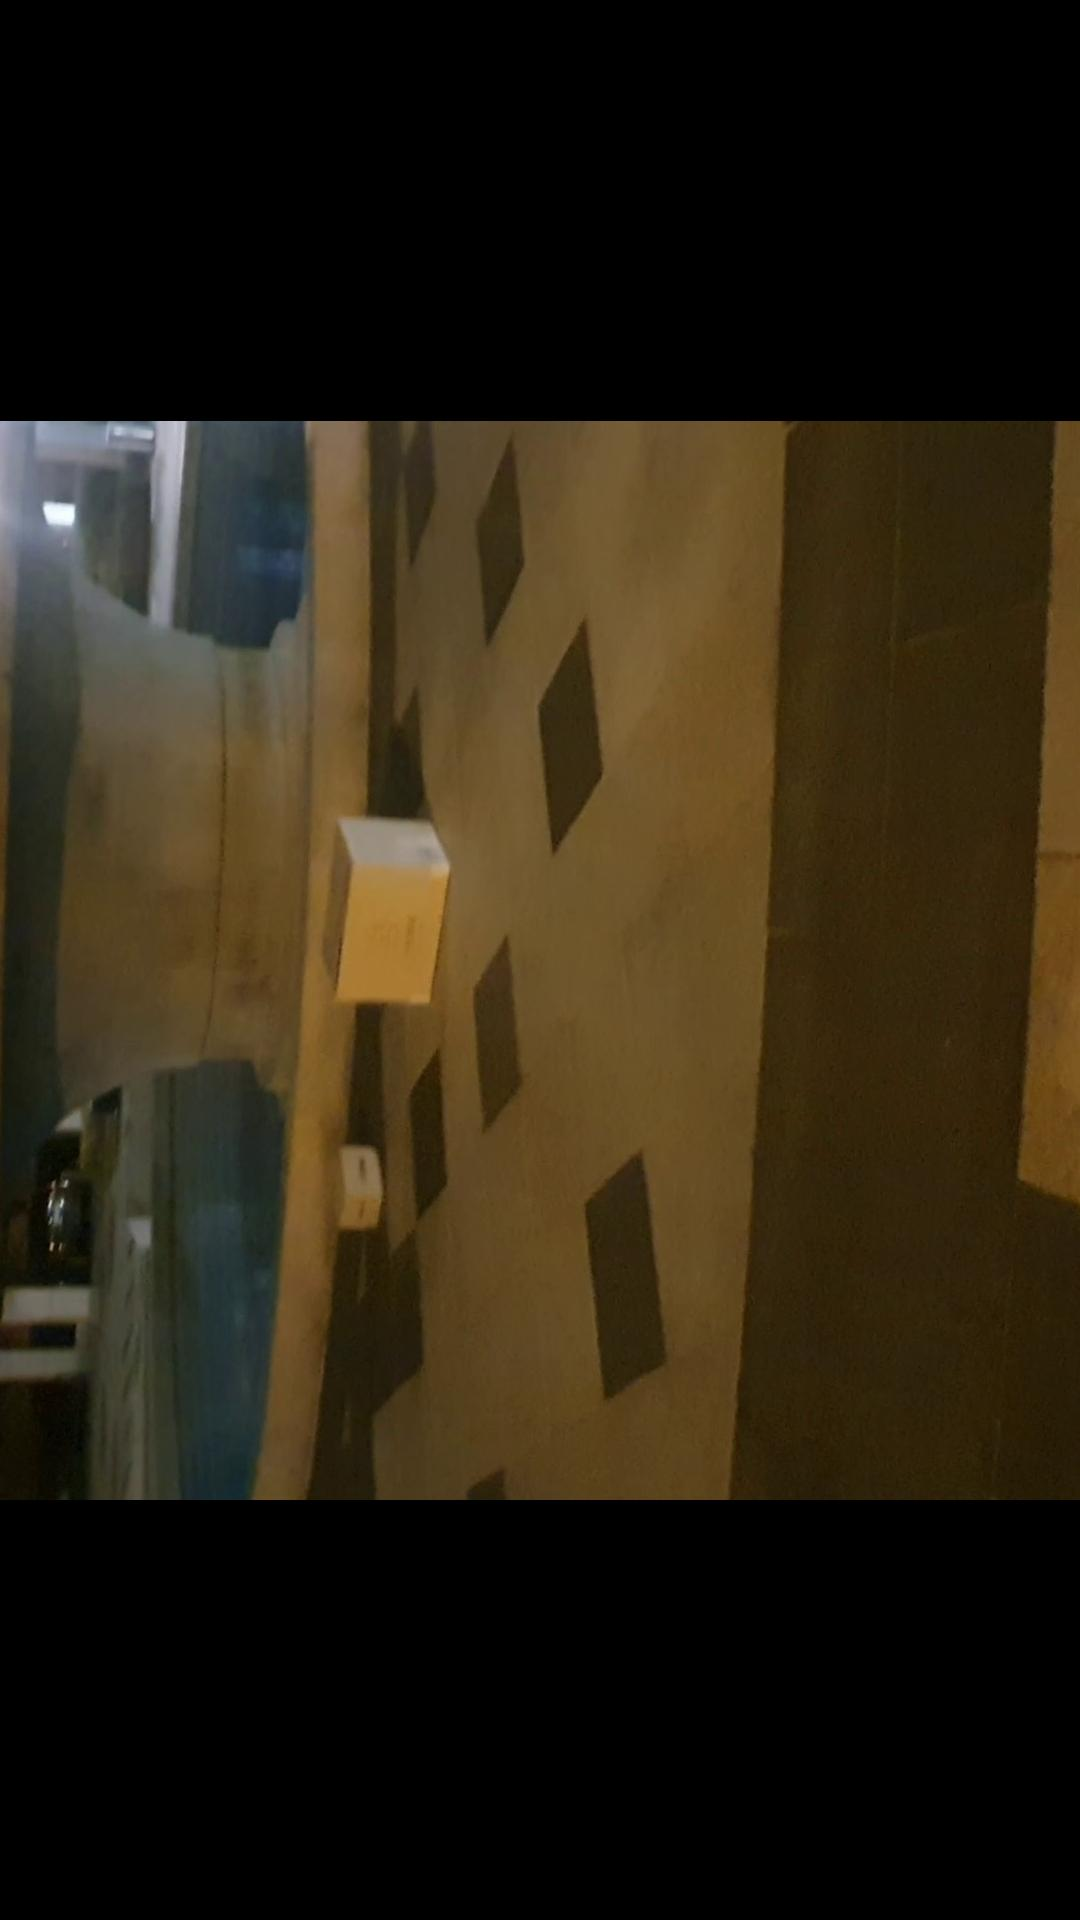Box: (315, 811, 465, 1007), (305, 1135, 397, 1237)
